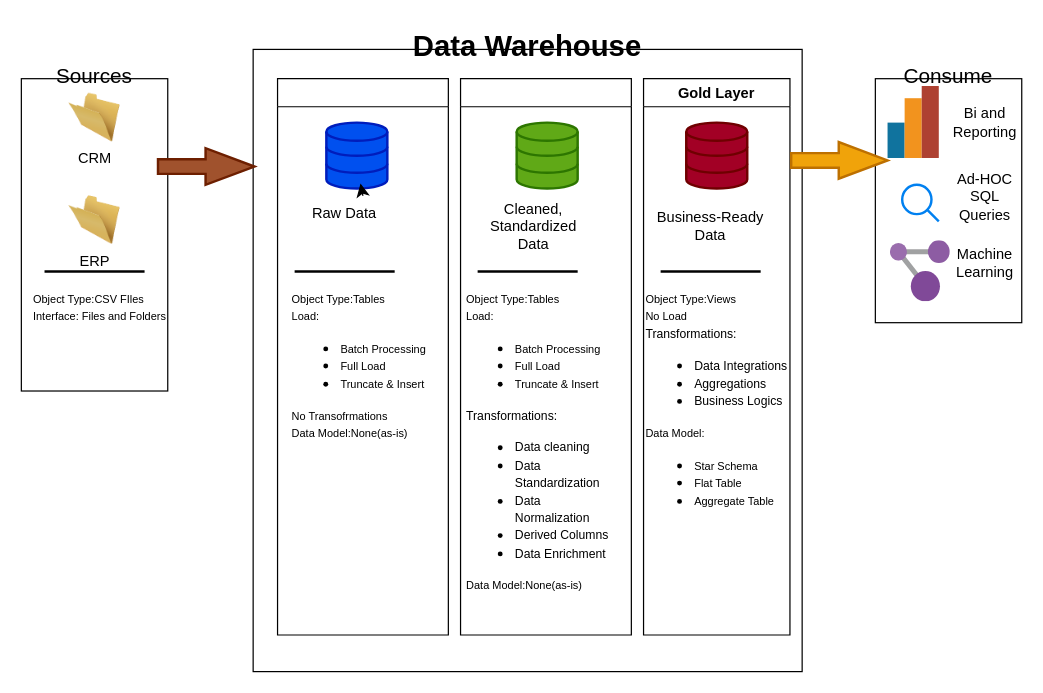
This 1043x693 diagram has some shape labels left out. Here are the shapes that lost their labels. From the top down, the box of each, then its label:
(276, 77, 448, 635): Bronze Layer
(459, 77, 631, 635): Silver Layer
